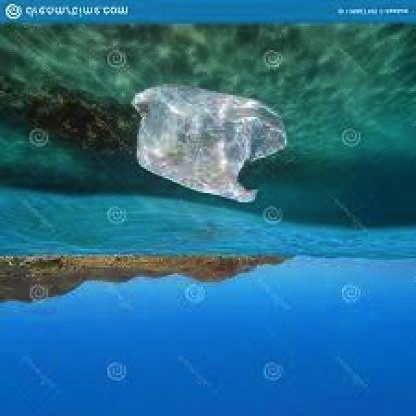pbag: (130, 84, 288, 202)
